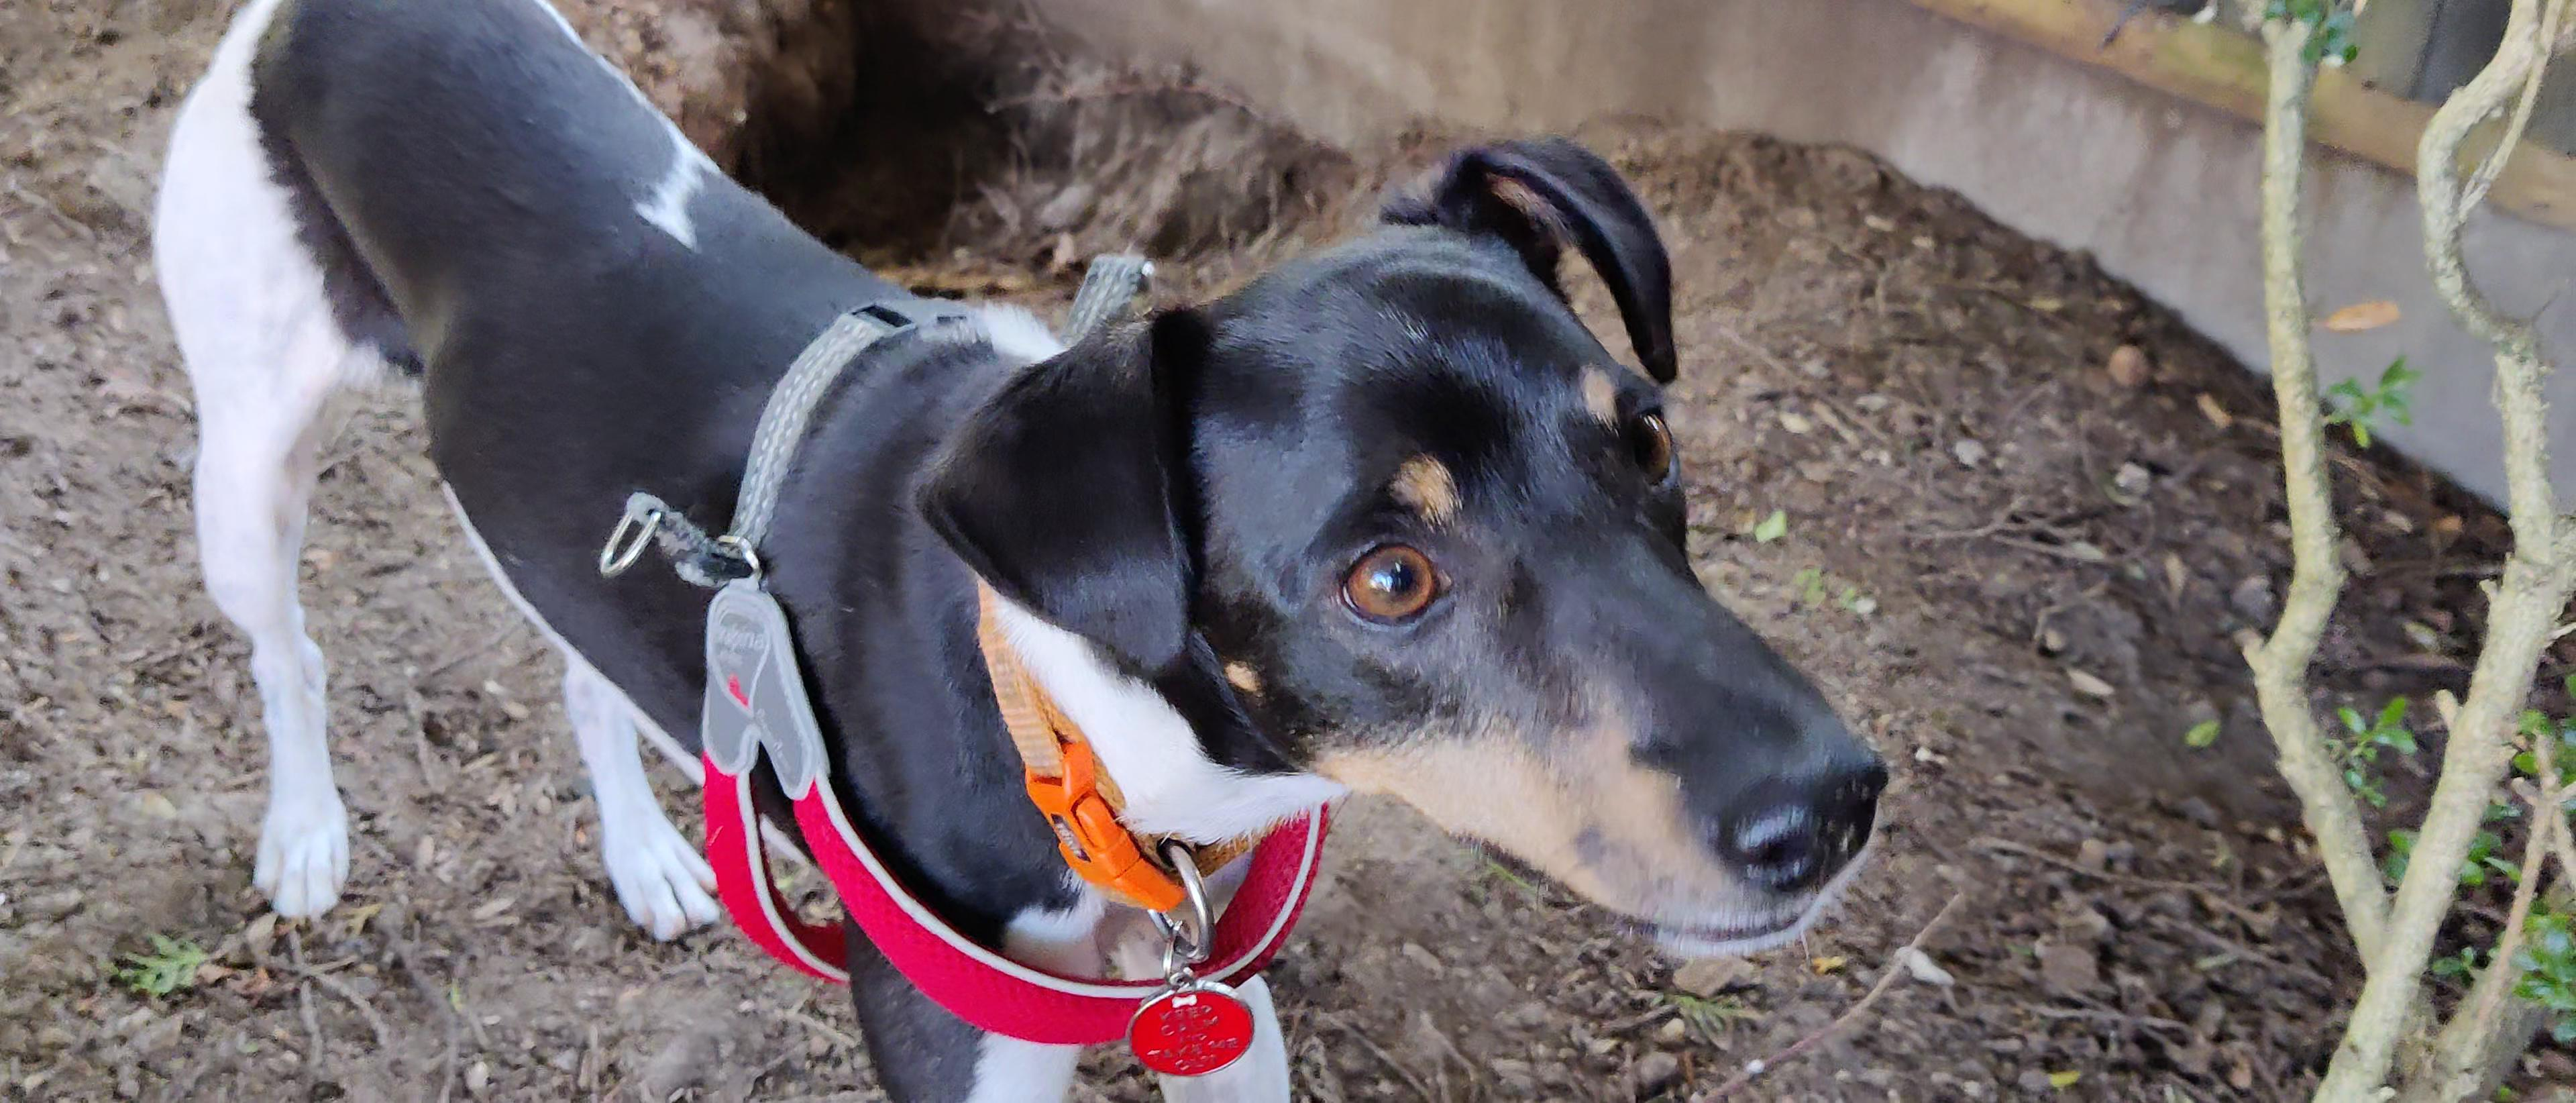Dog: (136, 0, 1899, 1103)
